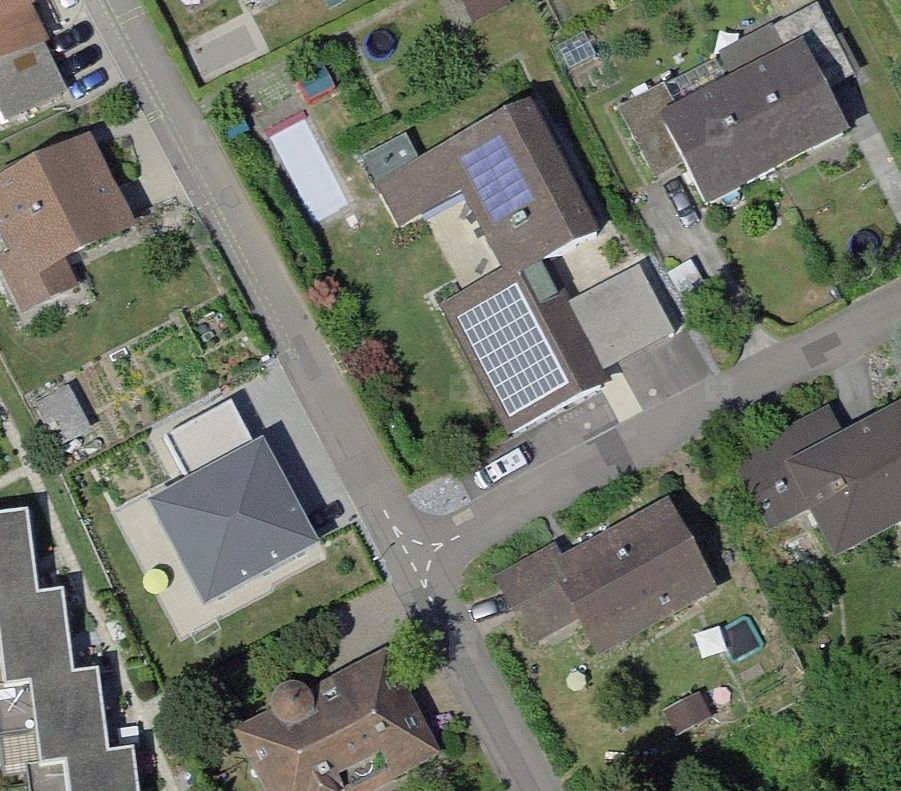solar: (450, 283, 571, 417), (461, 132, 538, 226)
